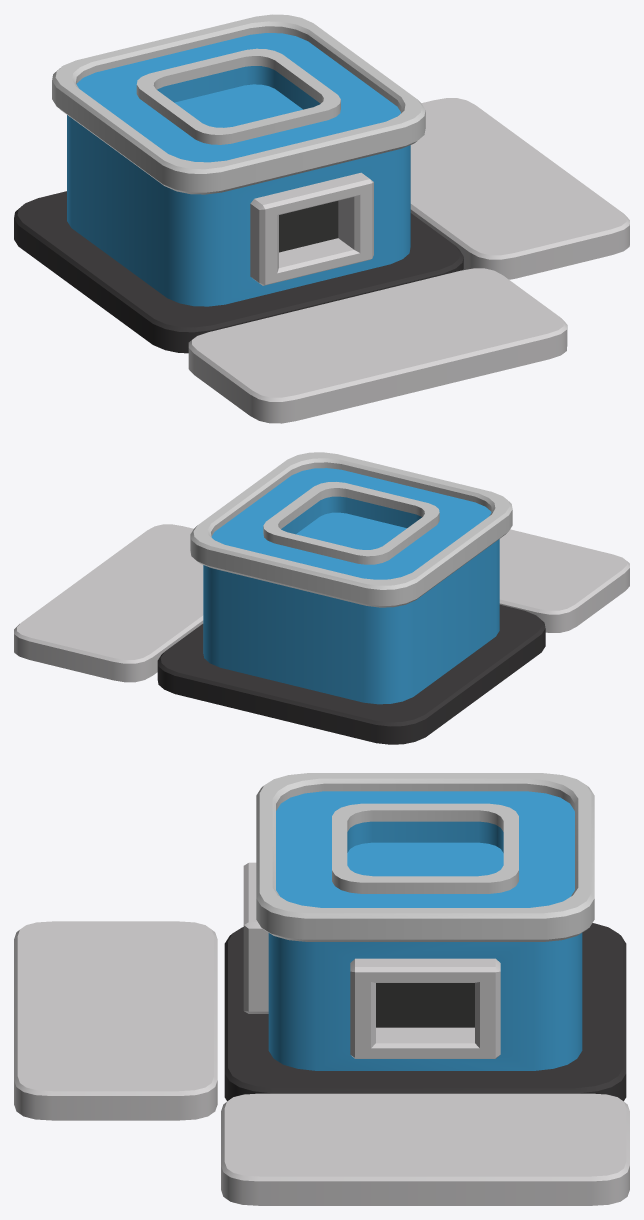
File: Sawmill_New.fbx
3 renders of one model, top to bottom at view 1: azimuth 30°, elevation 25°; view 2: azimuth 150°, elevation 25°; view 3: azimuth 270°, elevation 25°, orthographic. The views are drawn at different scales.
Visible parts, largest first — view 1: Sawmill_New; view 2: Sawmill_New; view 3: Sawmill_New.
Boxes of the visible parts, left/top/right/bottom form: Sawmill_New: left=14, top=14, right=629, bottom=423; Sawmill_New: left=14, top=452, right=629, bottom=744; Sawmill_New: left=14, top=773, right=629, bottom=1205.
Bounding box in the file's own units: 7.38 × 2.52 × 7.43.
1 material, 1 textured.
